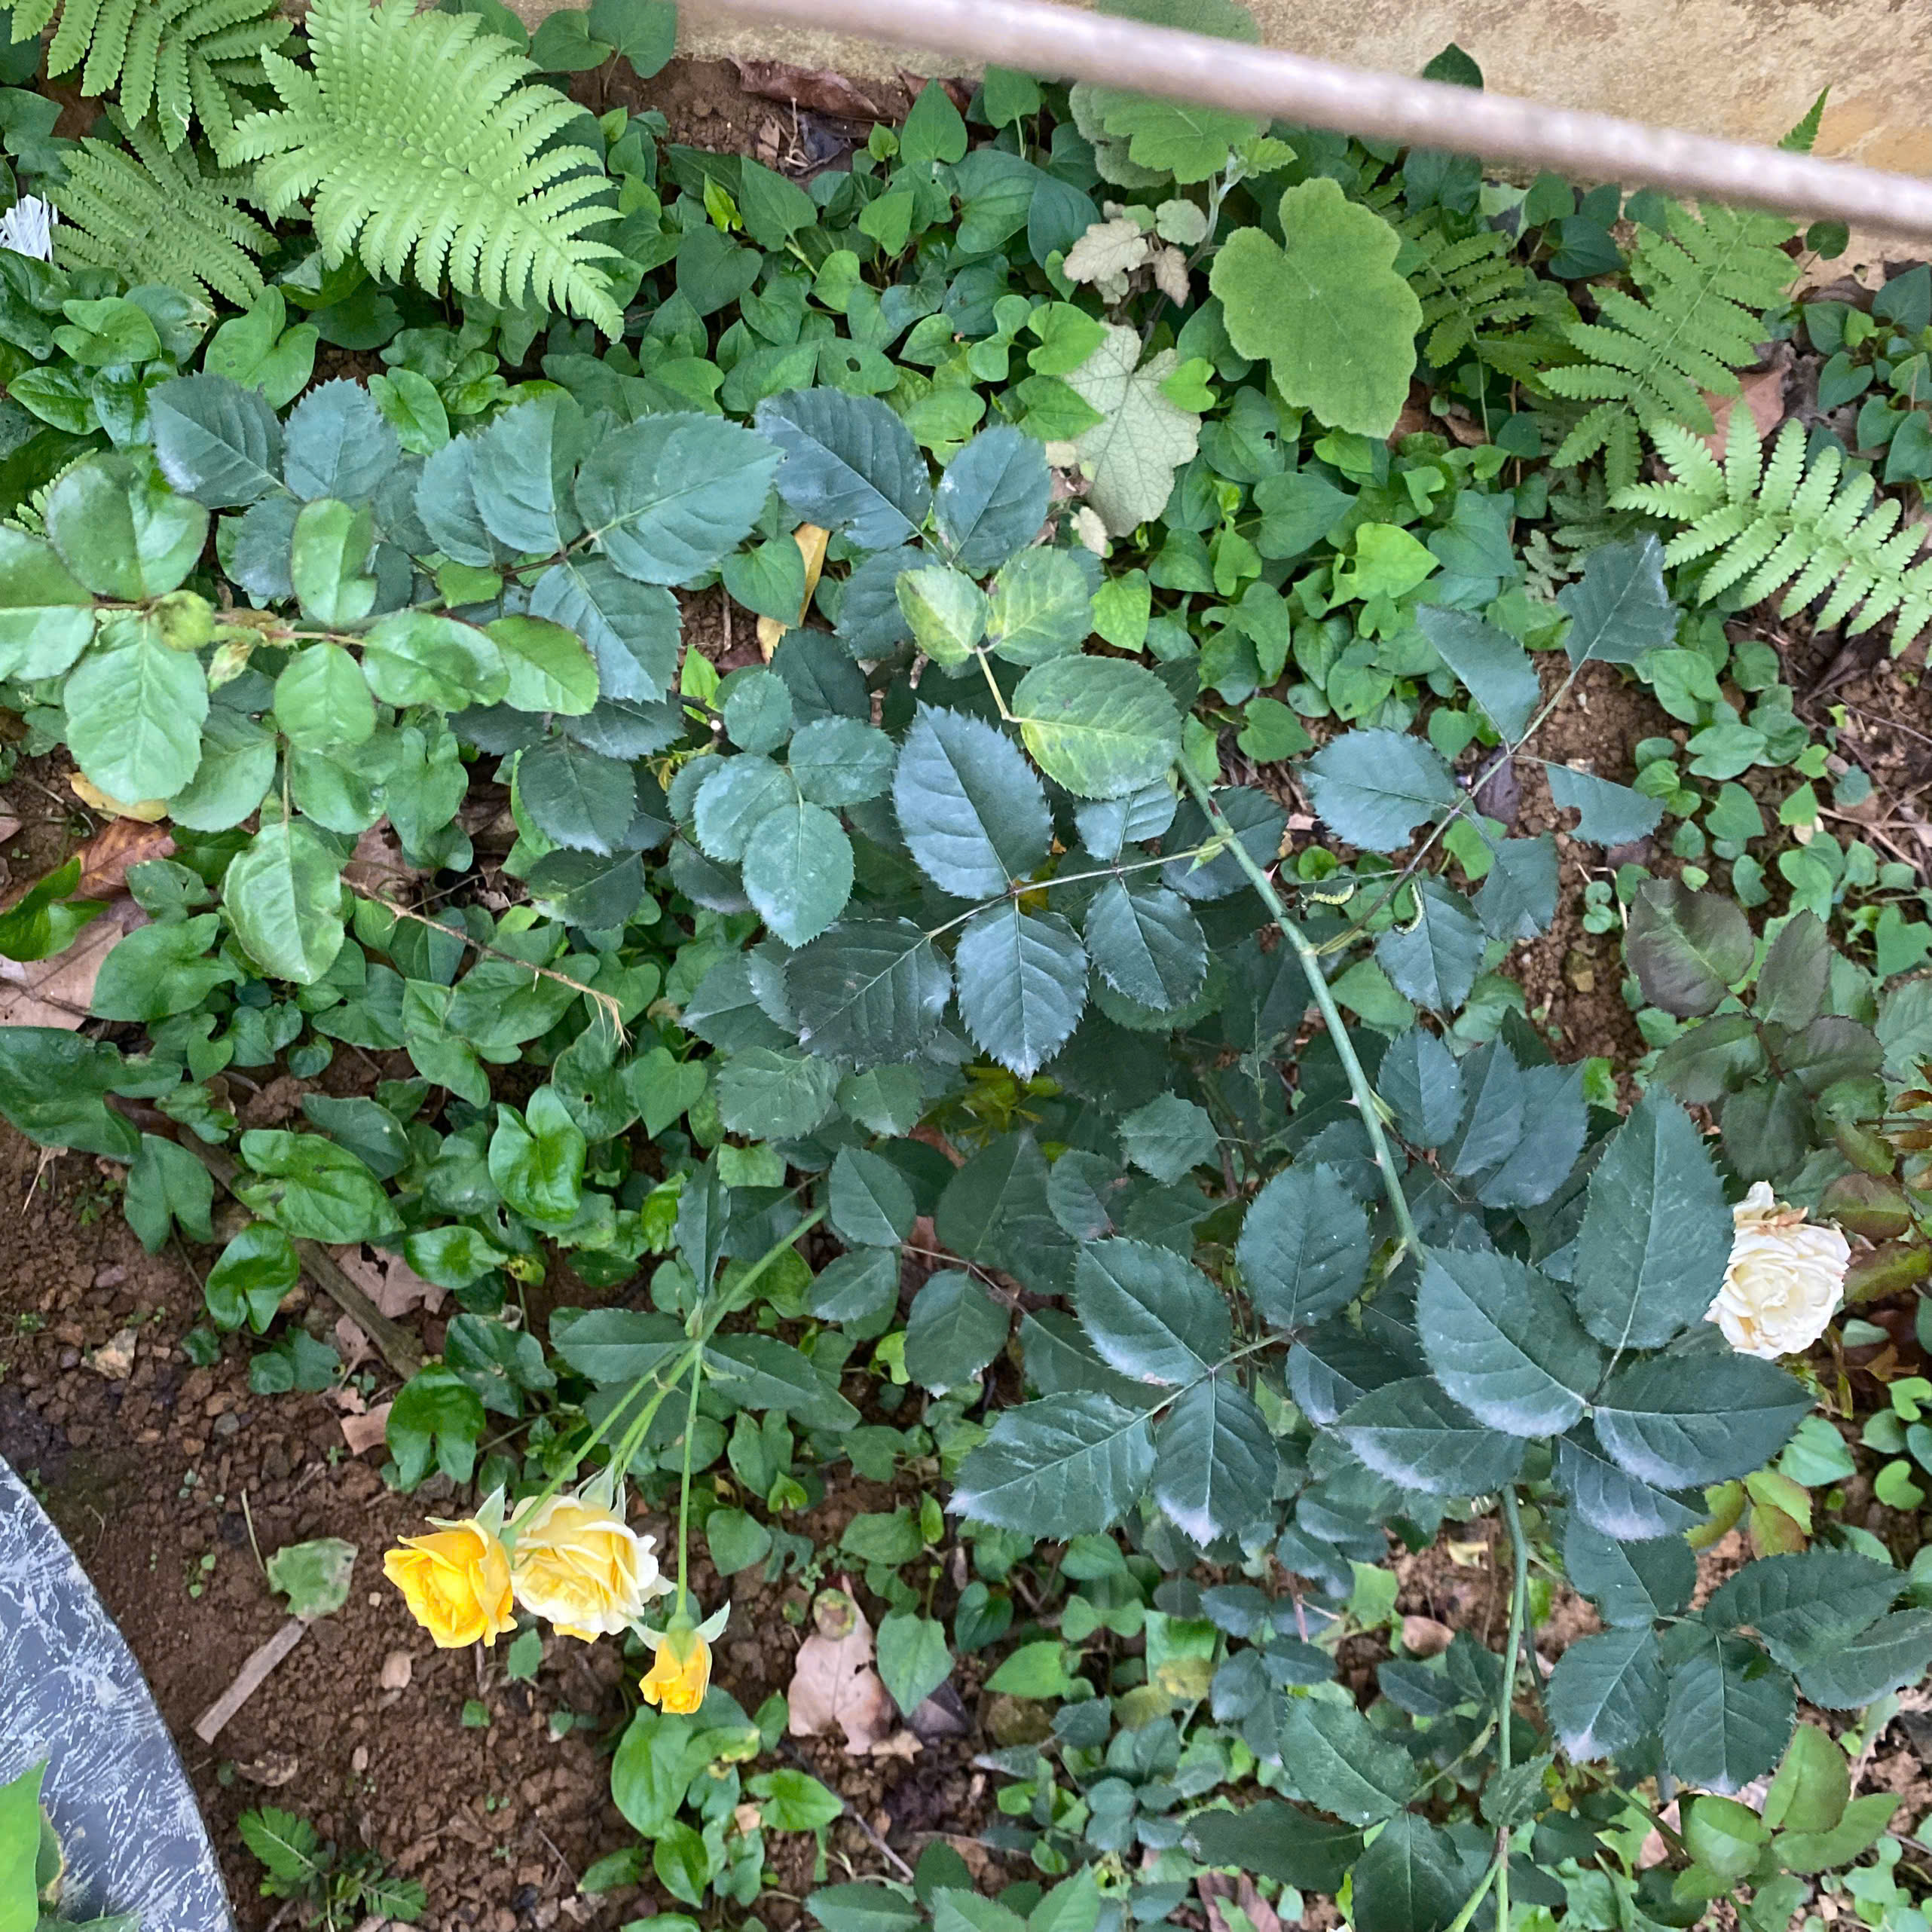hoa_thuoc_duoc: (35, 336, 1932, 1867)
